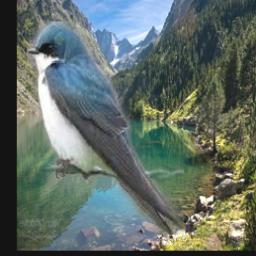Swallow: (26, 21, 183, 235)
